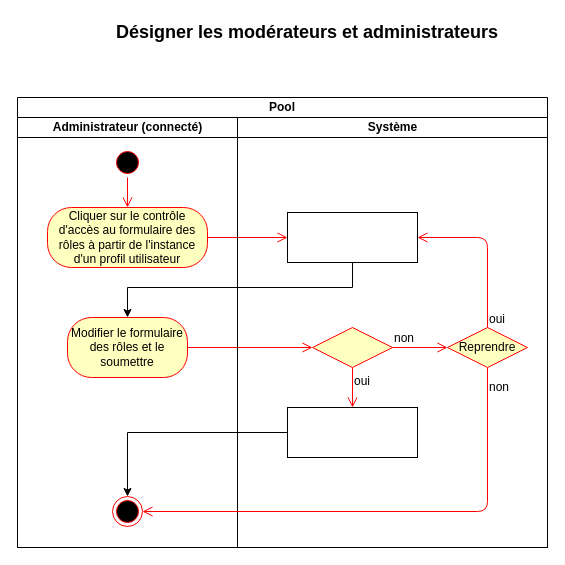
This 565x565 diagram has some shape labels left out. The shapes that lost their labels are listed below. From the top down, each one's centre as x and y in pixels, then its label:
At (x=352, y=237): "Formulaire des rôles prérempli avec les données de session".
At (x=352, y=347): "Validé".
At (x=352, y=432): "Liste des utilisateurs mise à jour".
